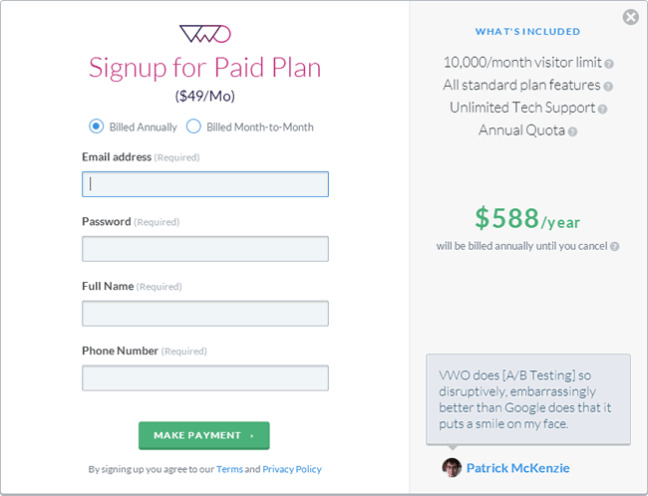_form_: (4, 76, 420, 492)
button: (138, 420, 271, 451)
field: (79, 169, 330, 199), (78, 299, 332, 328), (80, 363, 331, 392), (79, 235, 331, 263)
field_with_label: (77, 151, 331, 201), (76, 280, 333, 329), (77, 345, 334, 394), (77, 217, 332, 266)
radio: (183, 118, 202, 134), (88, 118, 104, 134)
radio_with_label: (181, 115, 314, 136), (84, 115, 177, 136)
